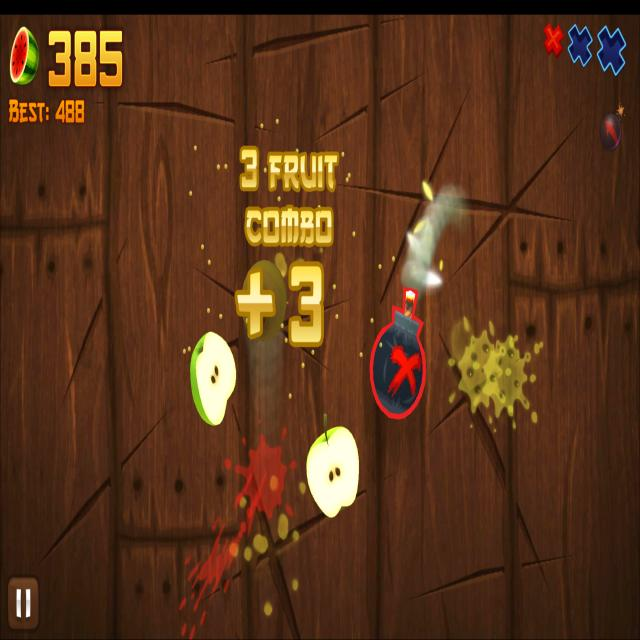bomb: (369, 283, 427, 420)
